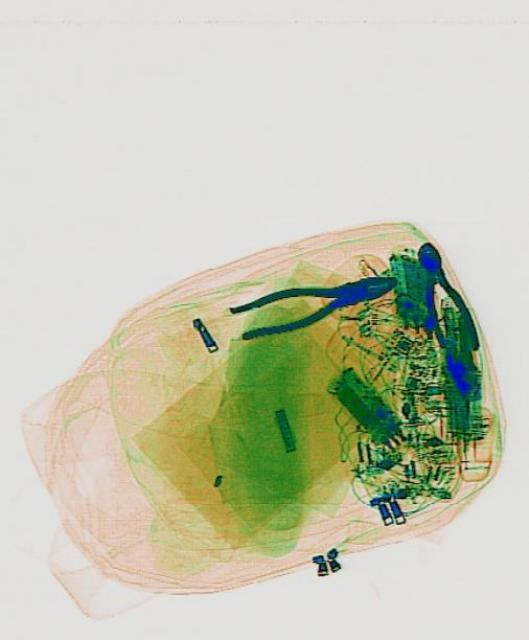Pliers: (226, 256, 399, 346), (403, 234, 479, 360)
